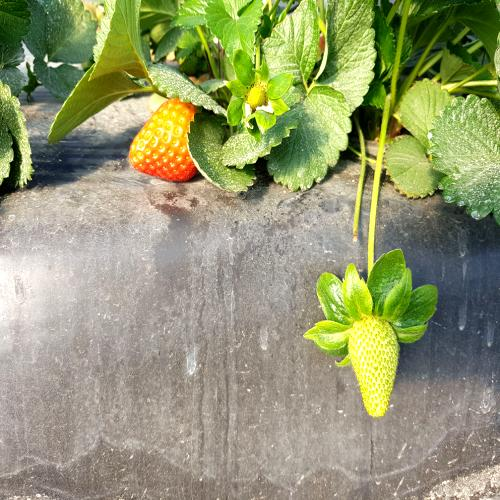ripe: (125, 89, 203, 193)
unripe: (342, 309, 406, 426)
